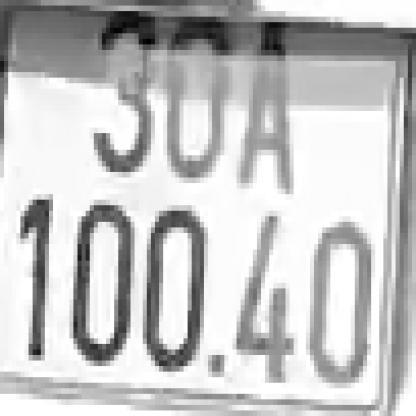0: (69, 194, 143, 372), (143, 199, 208, 371), (306, 211, 367, 388), (163, 28, 229, 178)
3: (94, 16, 155, 178)
4: (232, 205, 294, 377)
A: (232, 22, 306, 194)
